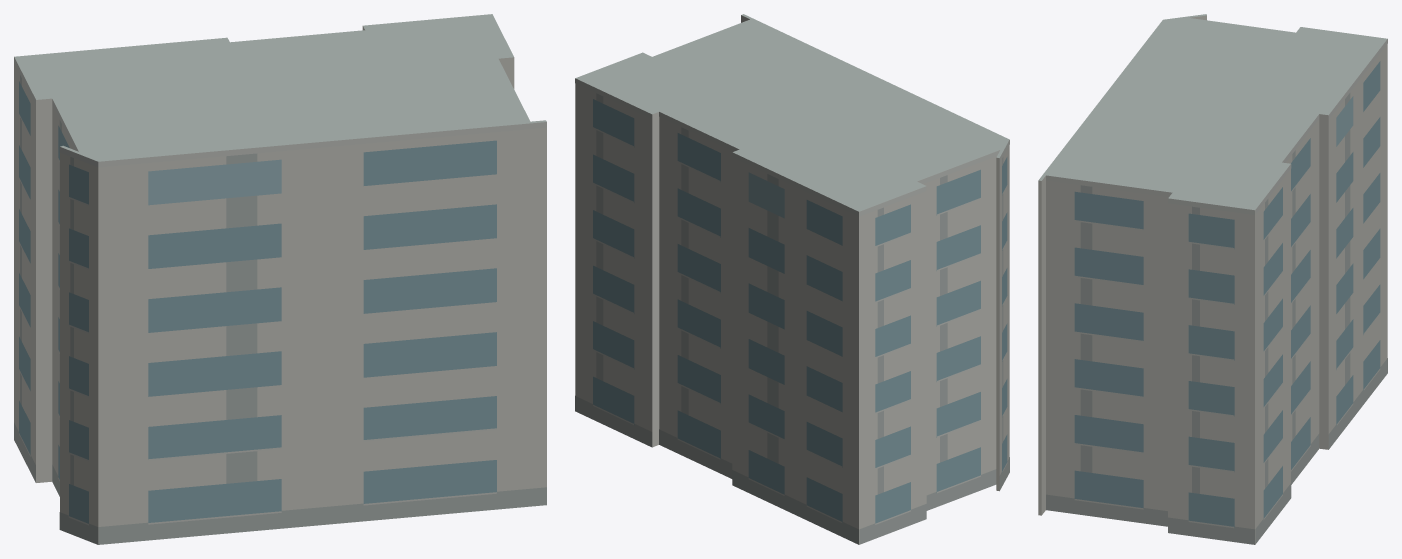
The model's file is survey-upis-32821497.glb.
3 renders of one model, left to right at view 1: azimuth 30°, elevation 25°; view 2: azimuth 150°, elevation 25°; view 3: azimuth 270°, elevation 25°, orthographic. The views are drawn at different scales.
Parts seen in each view (by area): view 1: survey-upis-32821497.tmp; view 2: survey-upis-32821497.tmp; view 3: survey-upis-32821497.tmp.
Part boxes in pixels (left/top/right/bottom): survey-upis-32821497.tmp: left=14, top=14, right=546, bottom=544; survey-upis-32821497.tmp: left=575, top=14, right=1009, bottom=544; survey-upis-32821497.tmp: left=1038, top=14, right=1387, bottom=544.
Size of the model in its own units: 20.13 by 16 by 15.15.
